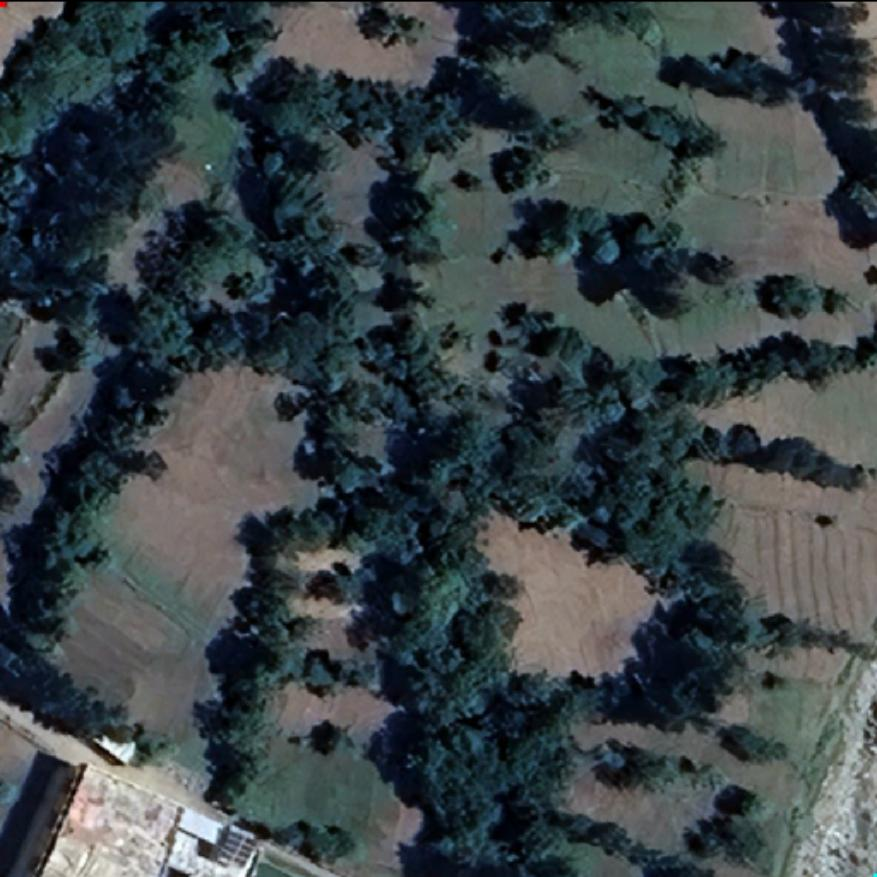Solarpanel: (216, 826, 256, 868)
